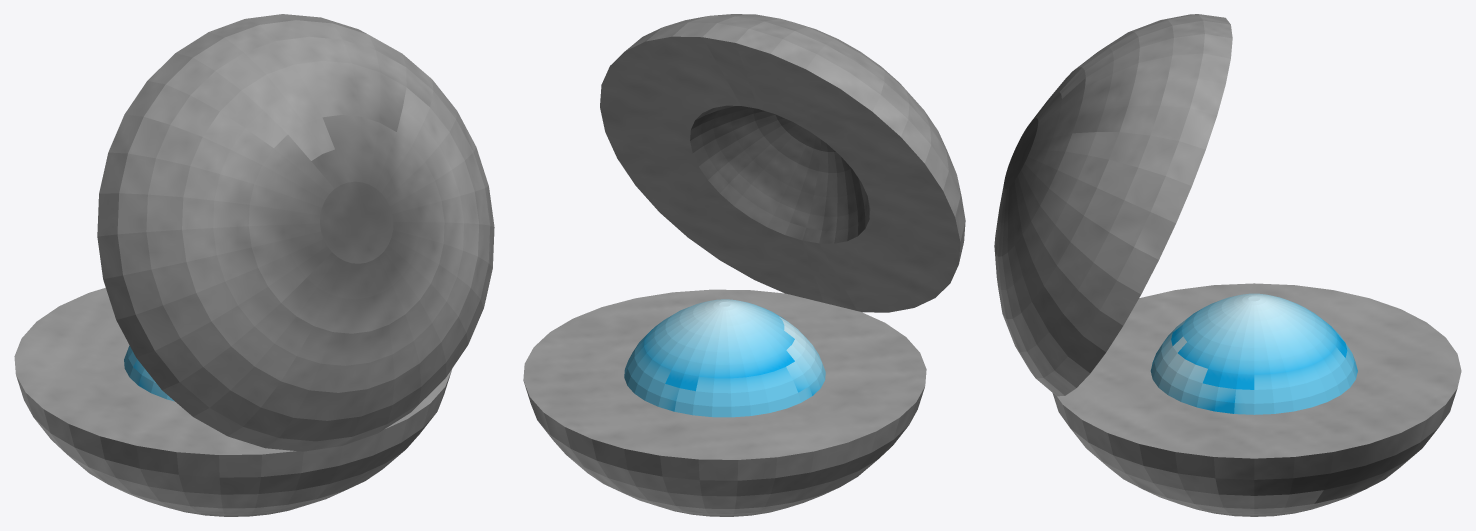
File: LS_DemonCore.fbx
3 renders of one model, left to right at view 1: azimuth 30°, elevation 25°; view 2: azimuth 150°, elevation 25°; view 3: azimuth 270°, elevation 25°, orthographic. The views are drawn at different scales.
Visible parts, largest first — view 1: LS_DemonCore; view 2: LS_DemonCore; view 3: LS_DemonCore.
Part boxes in pixels (x1,y1,x2,y2): LS_DemonCore: (14,14,494,516); LS_DemonCore: (523,14,965,516); LS_DemonCore: (994,14,1461,516).
Bounding box in the file's own units: 0.2623 × 0.3199 × 0.2955.
